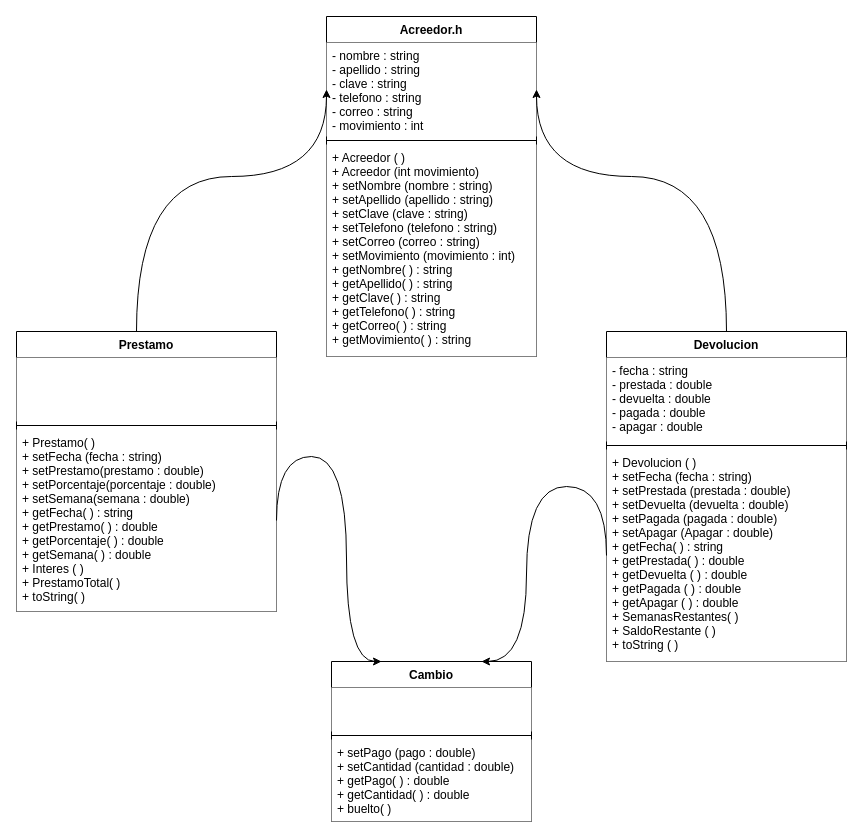
Some shapes in this 863 by 838 pixel diagram are drawn without their labels. Each missing label, with the centre of its shape:
"- fecha : string - prestamo : double - porcentaje : double - semana : double" goes at point 146,389.
"- pago : double - cantidad : double" goes at point 431,709.
